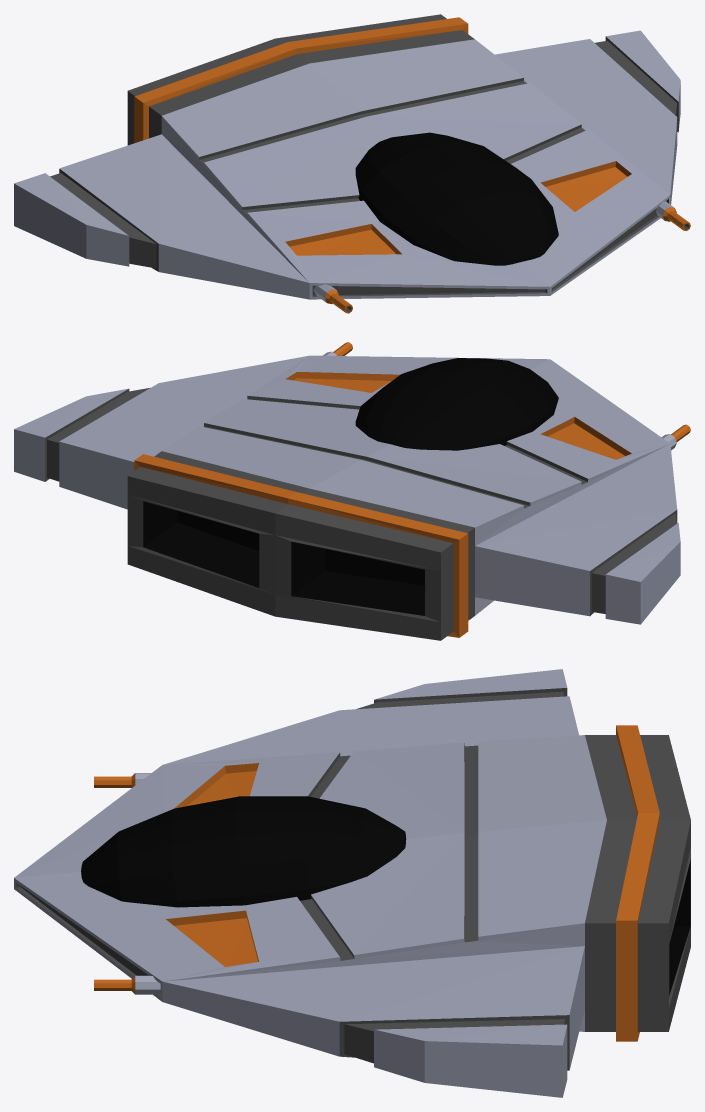
The model's file is Spaceship2_4.fbx.
The picture shows the model from 3 angles, top to bottom: view 1: azimuth 30°, elevation 25°; view 2: azimuth 150°, elevation 25°; view 3: azimuth 270°, elevation 25°; orthographic projection. The views are drawn at different scales.
Parts seen in each view (by area): view 1: Spaceship2_4; view 2: Spaceship2_4; view 3: Spaceship2_4.
Part boxes in pixels (x1,y1,x2,y2): Spaceship2_4: (14, 14, 690, 313); Spaceship2_4: (14, 342, 690, 640); Spaceship2_4: (14, 669, 690, 1097).
Bounding box in the file's own units: 977 × 174 × 742.
